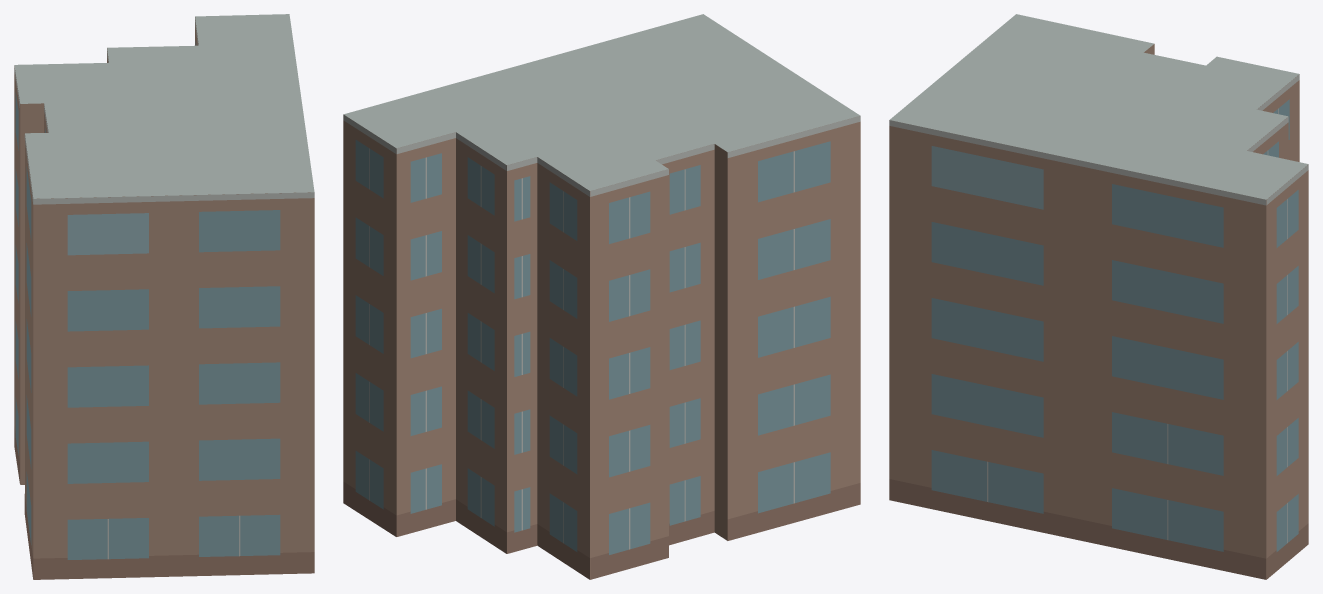
Rendered from survey-upis-32576839.glb.
3 renders of one model, left to right at view 1: azimuth 30°, elevation 25°; view 2: azimuth 150°, elevation 25°; view 3: azimuth 270°, elevation 25°, orthographic. The views are drawn at different scales.
Parts seen in each view (by area): view 1: survey-upis-32576839.tmp; view 2: survey-upis-32576839.tmp; view 3: survey-upis-32576839.tmp.
Boxes of the visible parts, bbox=[...] form: survey-upis-32576839.tmp: bbox=[14, 14, 314, 579]; survey-upis-32576839.tmp: bbox=[343, 14, 860, 579]; survey-upis-32576839.tmp: bbox=[889, 14, 1308, 579].
Size of the model in its own units: 16.78 by 16 by 16.
